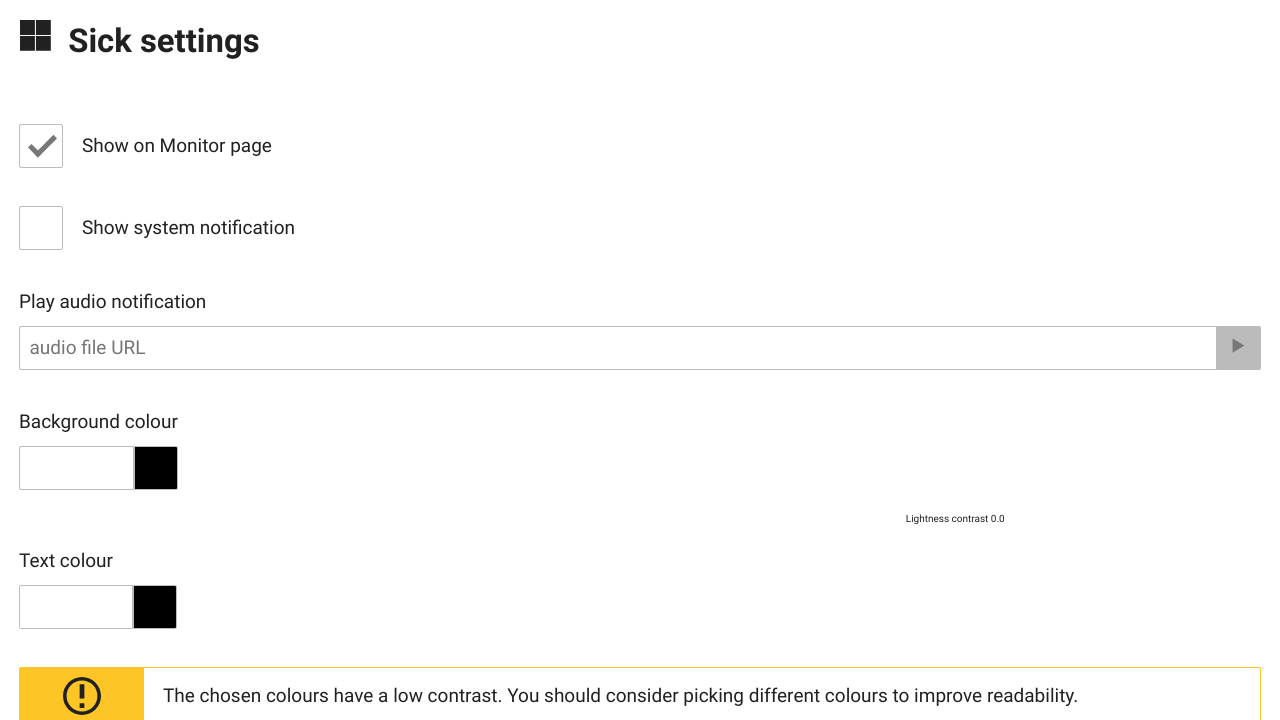
Test case: warnings › system notifications have not been allowed
Click the checkbox labelled "Show system notification": (188, 228) [82,216,295,239]
(page scrolled)
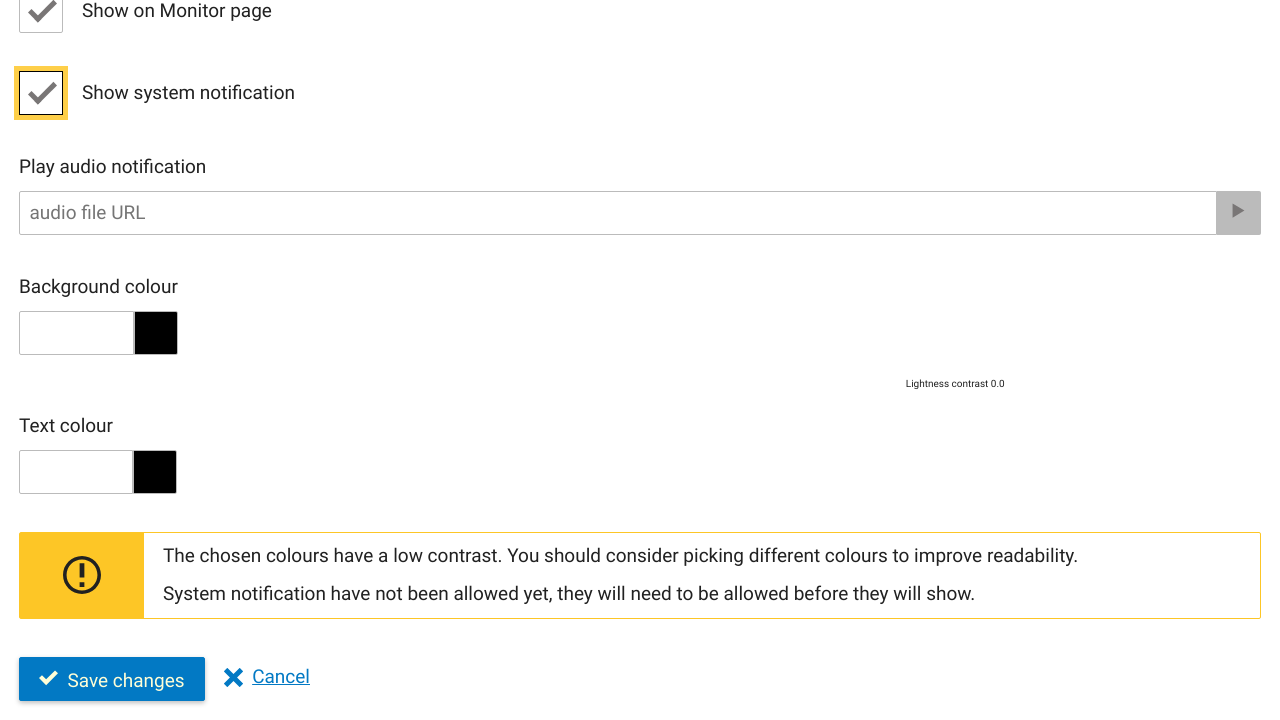
Expected: the list item "System notification have not been allowed yet, they will need to be allowed before they will show." is shown, [163,582,975,605]
